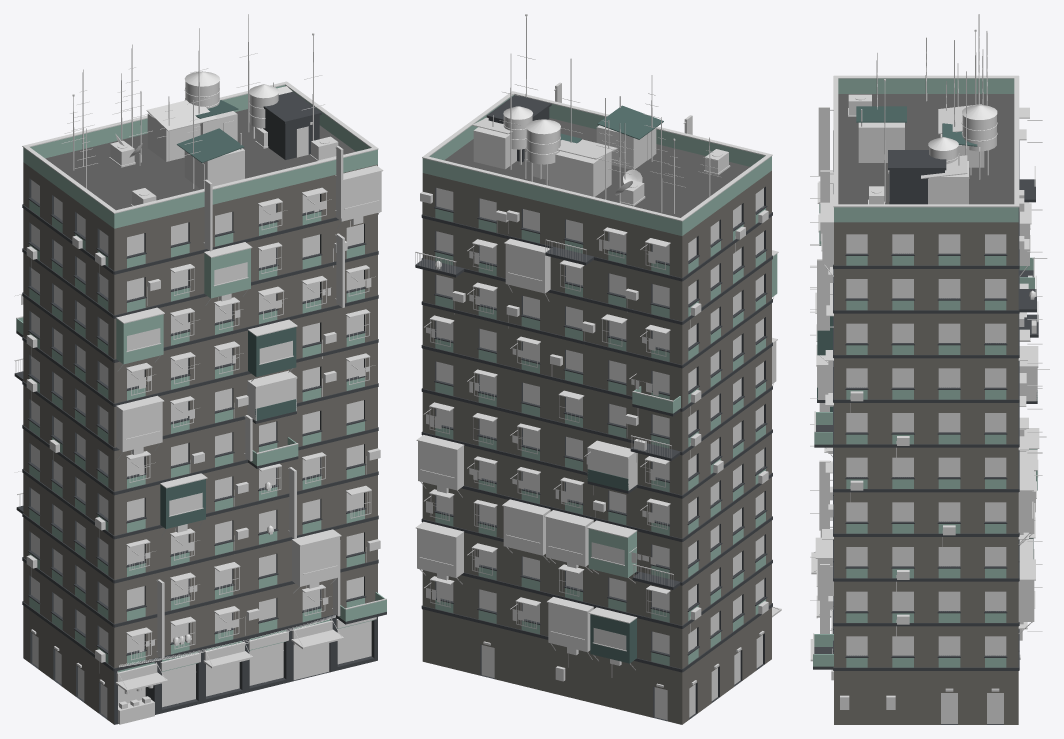
Rendered from LB_KS_Slab_C.fbx.
3 renders of one model, left to right at view 1: azimuth 30°, elevation 25°; view 2: azimuth 150°, elevation 25°; view 3: azimuth 270°, elevation 25°, orthographic. The views are drawn at different scales.
Visible parts, largest first — view 1: LB_KS_Slab_C_LOD0; view 2: LB_KS_Slab_C_LOD0; view 3: LB_KS_Slab_C_LOD0.
Boxes of the visible parts, x1,y1,x2,y2 form: LB_KS_Slab_C_LOD0: (14,14,386,724); LB_KS_Slab_C_LOD0: (415,14,781,724); LB_KS_Slab_C_LOD0: (810,14,1049,724).
Size of what is drawn, in the model's own units: 20.73 by 44.86 by 15.58.
